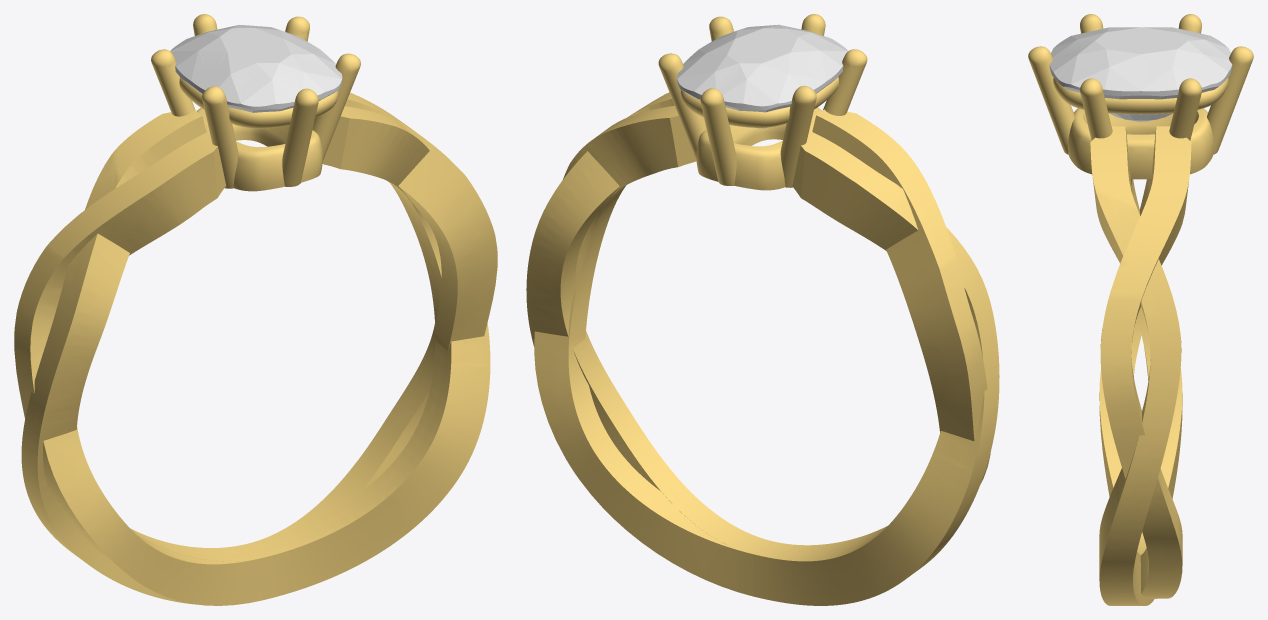
Rendered from diamond-cushion-yellowgold-6prong-twist-nosidestones.glb.
3 views of the same model, side by side, from view 1: azimuth 30°, elevation 25°; view 2: azimuth 150°, elevation 25°; view 3: azimuth 270°, elevation 25° (orthographic).
Visible parts, largest first — view 1: metal.001, stone; view 2: metal.001, stone; view 3: metal.001, stone.
Boxes of the visible parts, x1,y1,x2,y2 form: metal.001: (14,14,497,605); stone: (170,25,342,128); metal.001: (526,14,999,605); stone: (677,24,847,128); metal.001: (1028,14,1253,605); stone: (1049,27,1232,121).
Size of the model in its own units: 19.97 by 23.14 by 8.8.
